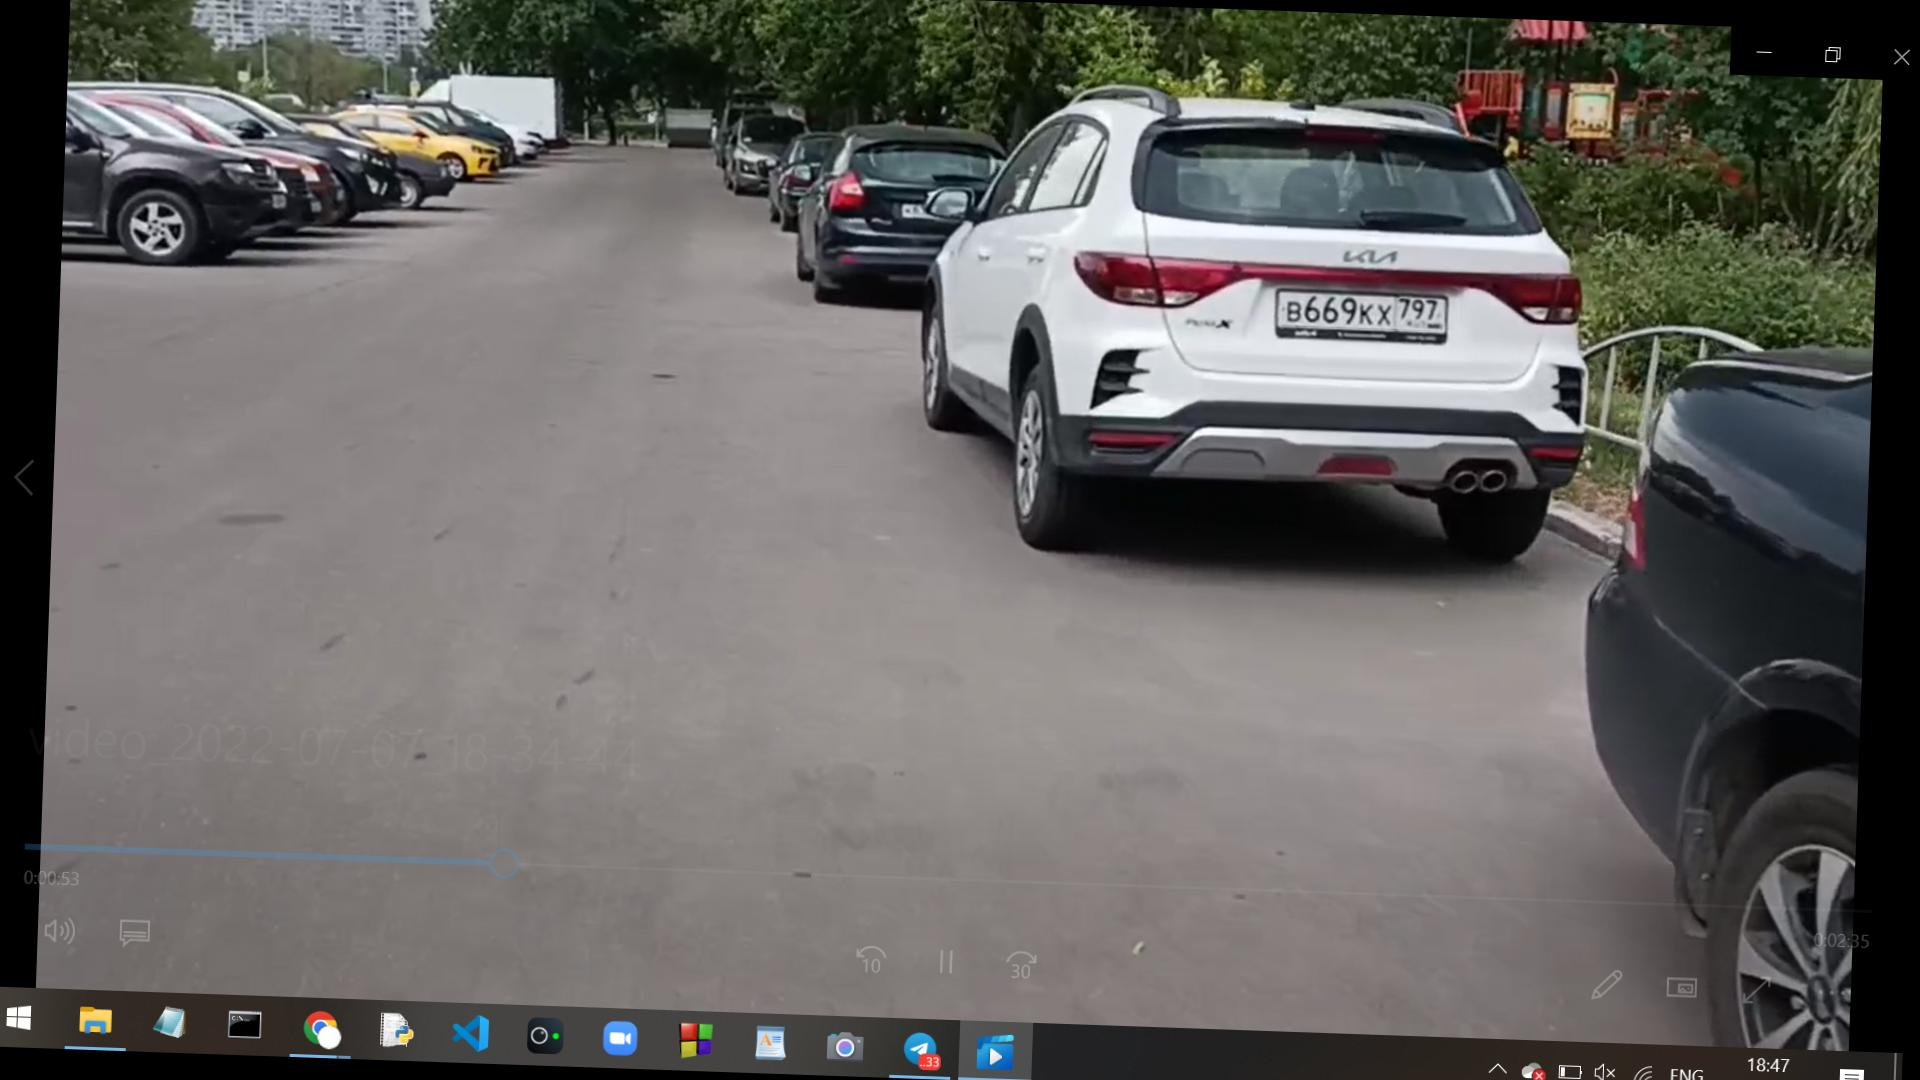plate: (1284, 296, 1444, 333)
